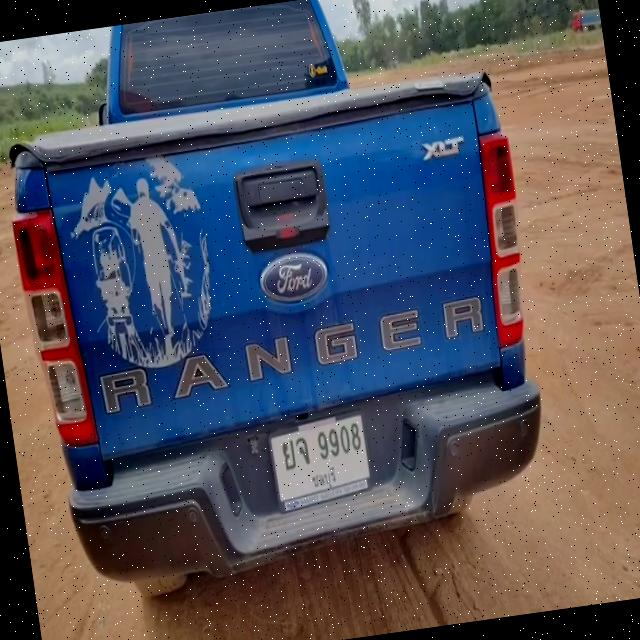Digit: (314, 419, 364, 464)
Licenseplate: (265, 410, 374, 517)
Provincename: (309, 464, 340, 494)
Thaichar: (281, 434, 312, 471)
